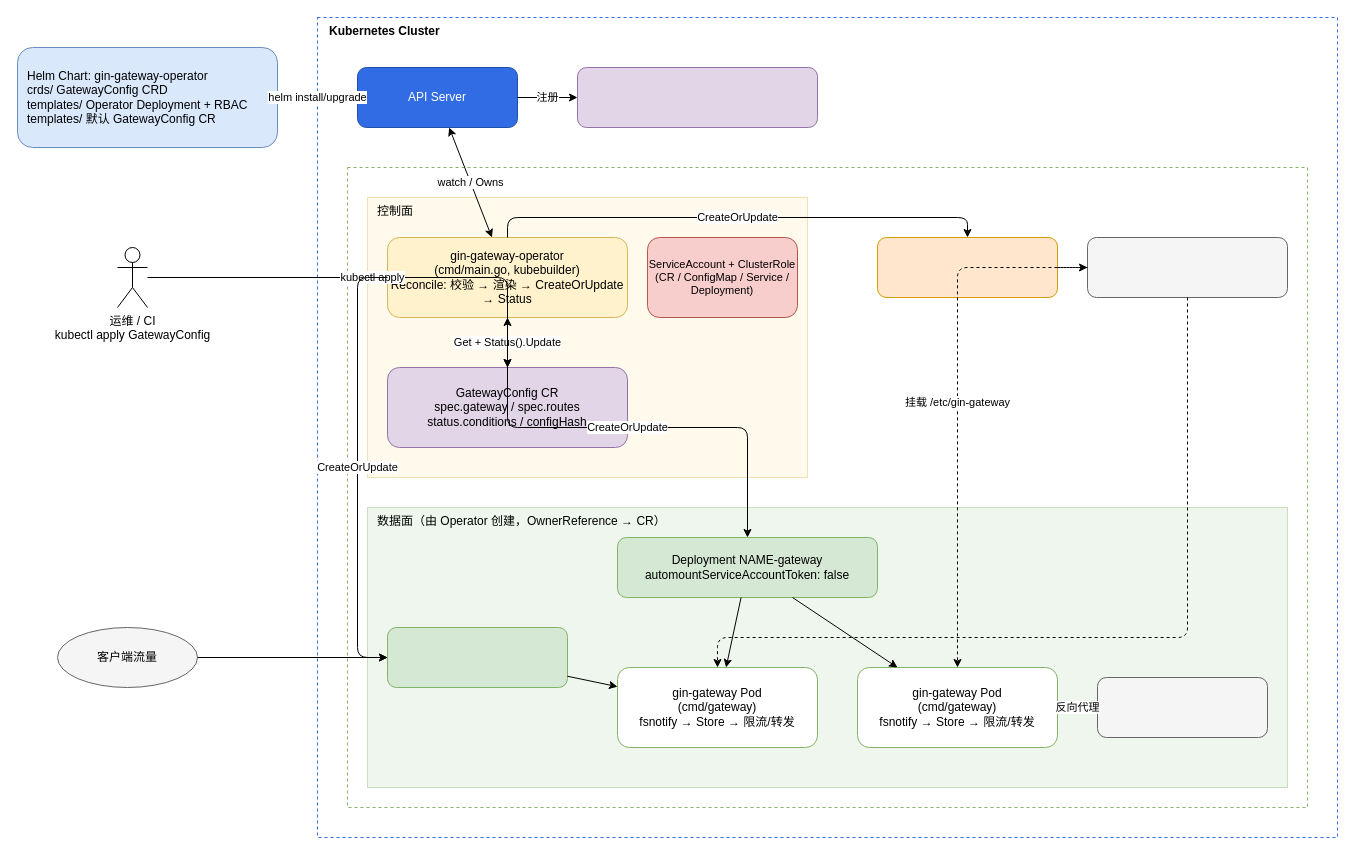
This 1355x855 diagram has some shape labels left out. The shapes that lost their labels are listed below. From the top down, each one's box as (x1, y1, x2, y2) in pixels, then its label:
(576, 66, 818, 128): CRD gatewayconfigs.gateway.example.com
(876, 236, 1058, 298): ConfigMap NAME-routes routes.json
(1086, 236, 1288, 298): kubelet 同步 ConfigMap 卷（原子替换 ..data）
(346, 166, 1308, 808): Namespace: gateway
(386, 626, 568, 688): Service NAME-gateway
(1096, 676, 1268, 738): 后端服务 user-service / order-service
